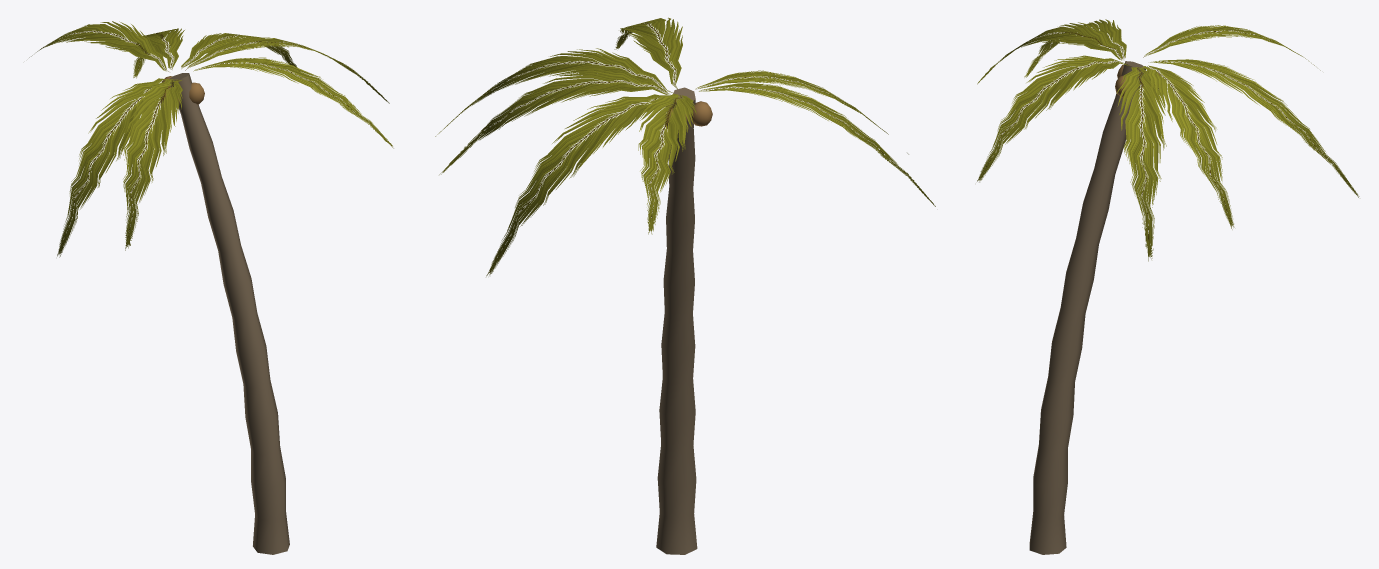
Rendered from palm_1_burnt1.glb.
3 views of the same model, side by side, from view 1: azimuth 30°, elevation 25°; view 2: azimuth 150°, elevation 25°; view 3: azimuth 270°, elevation 25° (orthographic). The views are drawn at different scales.
Parts seen in each view (by area): view 1: palm_1_burnt1; view 2: palm_1_burnt1; view 3: palm_1_burnt1.
Boxes of the visible parts, x1,y1,x2,y2 form: palm_1_burnt1: (29, 21, 393, 554); palm_1_burnt1: (435, 17, 935, 554); palm_1_burnt1: (977, 19, 1359, 554).
Bounding box in the file's own units: 6.53 × 7.44 × 5.51.
3 materials, 1 textured.
